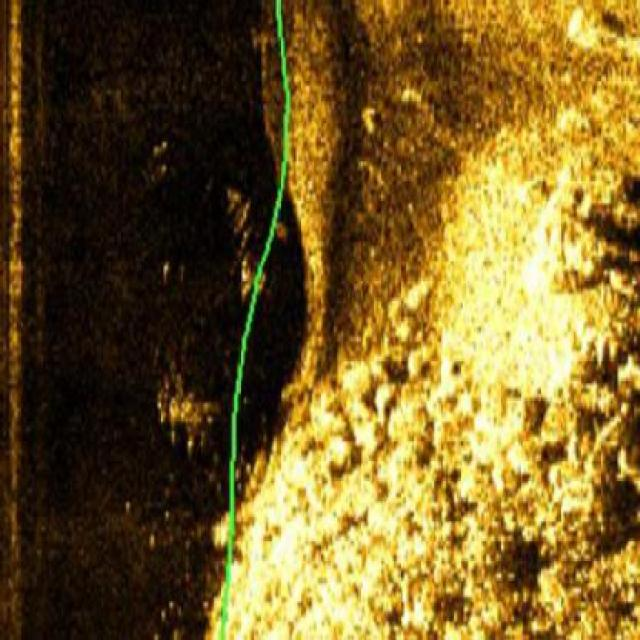bedrock group: (220, 166, 638, 640)
